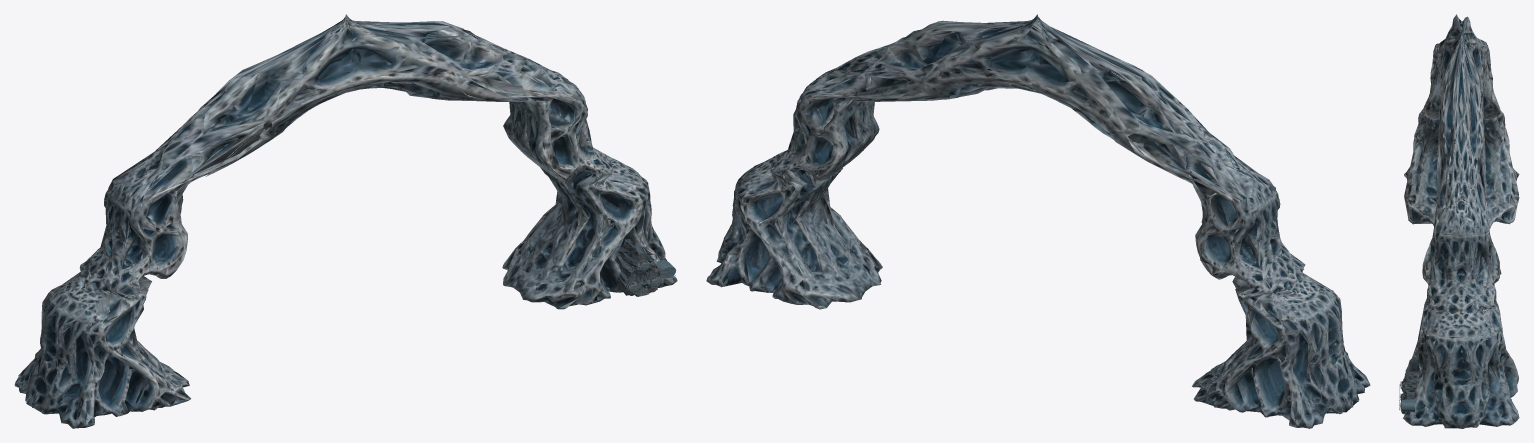
The model's file is terrasa-vrat-v14.glb.
The picture shows the model from 3 angles, left to right: view 1: azimuth 30°, elevation 25°; view 2: azimuth 150°, elevation 25°; view 3: azimuth 270°, elevation 25°; orthographic projection. The views are drawn at different scales.
Parts seen in each view (by area): view 1: LOD0_Mineral, LOD2_Mineral, LOD1_Mineral; view 2: LOD0_Mineral, LOD2_Mineral, LOD1_Mineral; view 3: LOD0_Mineral, LOD2_Mineral, LOD1_Mineral.
Part boxes in pixels (left/top/right/bottom): LOD0_Mineral: left=14, top=20, right=677, bottom=427; LOD2_Mineral: left=17, top=14, right=675, bottom=428; LOD1_Mineral: left=18, top=15, right=673, bottom=428; LOD0_Mineral: left=706, top=17, right=1369, bottom=428; LOD2_Mineral: left=711, top=14, right=1370, bottom=428; LOD1_Mineral: left=709, top=15, right=1364, bottom=427; LOD0_Mineral: left=1400, top=16, right=1519, bottom=428; LOD2_Mineral: left=1403, top=14, right=1518, bottom=428; LOD1_Mineral: left=1401, top=15, right=1518, bottom=426.
Bounding box in the file's own units: 120 × 58.17 × 23.25.
Materials: 3 (1 with a texture image).
